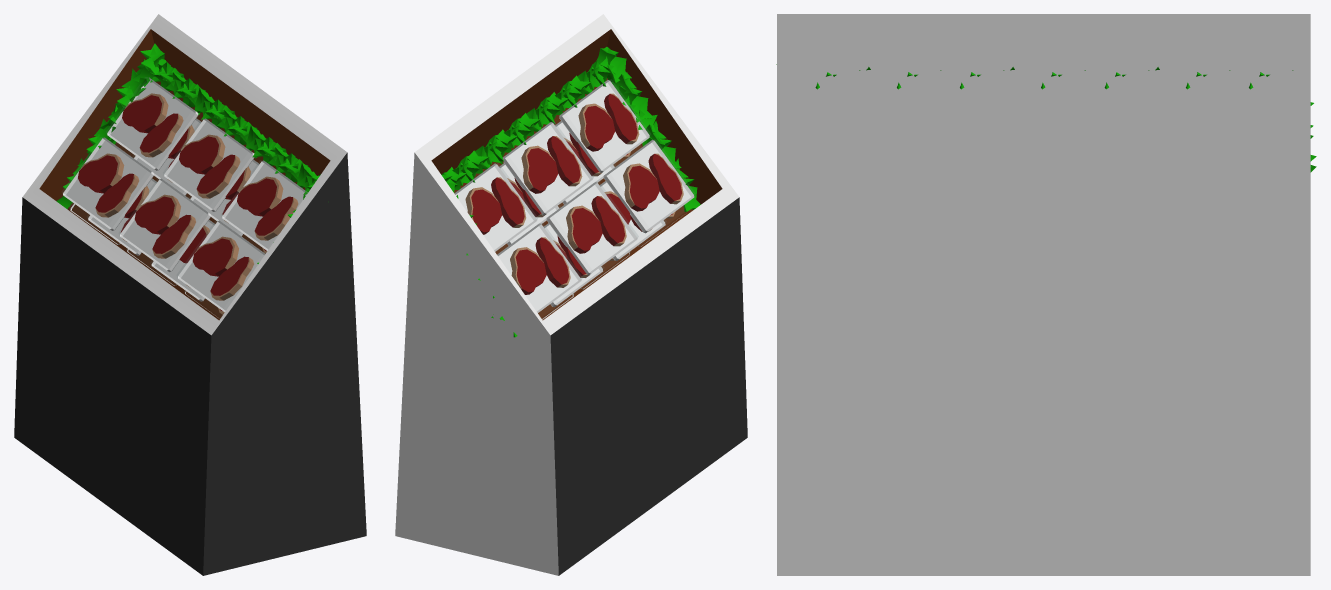
Rendered from meat_stand.fbx.
3 views of the same model, side by side, from view 1: azimuth 30°, elevation 25°; view 2: azimuth 150°, elevation 25°; view 3: azimuth 270°, elevation 25° (orthographic). The views are drawn at different scales.
Parts seen in each view (by area): view 1: meatstand5, pCube71, pCube70, pCube47, pCube12, pCube68, pCube64, pCylinder67, pCylinder5, pCylinder66, pCylinder71, pCylinder73 (+11 smaller); view 2: meatstand5, pCube68, pCube70, pCube47, pCube64, pCube71, pCube12, pCylinder66, pCylinder71, pCylinder67, pCylinder73, pCylinder74 (+9 smaller); view 3: meatstand5.
Part boxes in pixels (box(x1,y1,x2,y2)): meatstand5: box(14, 14, 366, 575); pCube71: box(63, 137, 153, 230); pCube70: box(120, 178, 210, 272); pCube47: box(164, 118, 254, 211); pCube12: box(107, 77, 198, 170); pCube68: box(178, 220, 265, 312); pCube64: box(222, 160, 307, 250); pCylinder67: box(237, 176, 283, 216); pCylinder5: box(122, 93, 168, 133); pCylinder66: box(179, 134, 225, 174); pCylinder71: box(192, 236, 238, 276); pCylinder73: box(134, 194, 180, 234); meatstand5: box(395, 14, 747, 575); pCube68: box(603, 140, 694, 233); pCube70: box(546, 182, 637, 275); pCube47: box(502, 122, 592, 215); pCube64: box(559, 80, 649, 172); pCube71: box(497, 223, 581, 312); pCube12: box(454, 163, 536, 251); pCylinder66: box(521, 145, 558, 193); pCylinder71: box(623, 163, 659, 211); pCylinder67: box(578, 103, 615, 151); pCylinder73: box(566, 205, 602, 253); pCylinder74: box(510, 247, 546, 294); meatstand5: box(777, 14, 1310, 575).
Bounding box in the file's own units: 0.5839 × 1.32 × 1.18.
